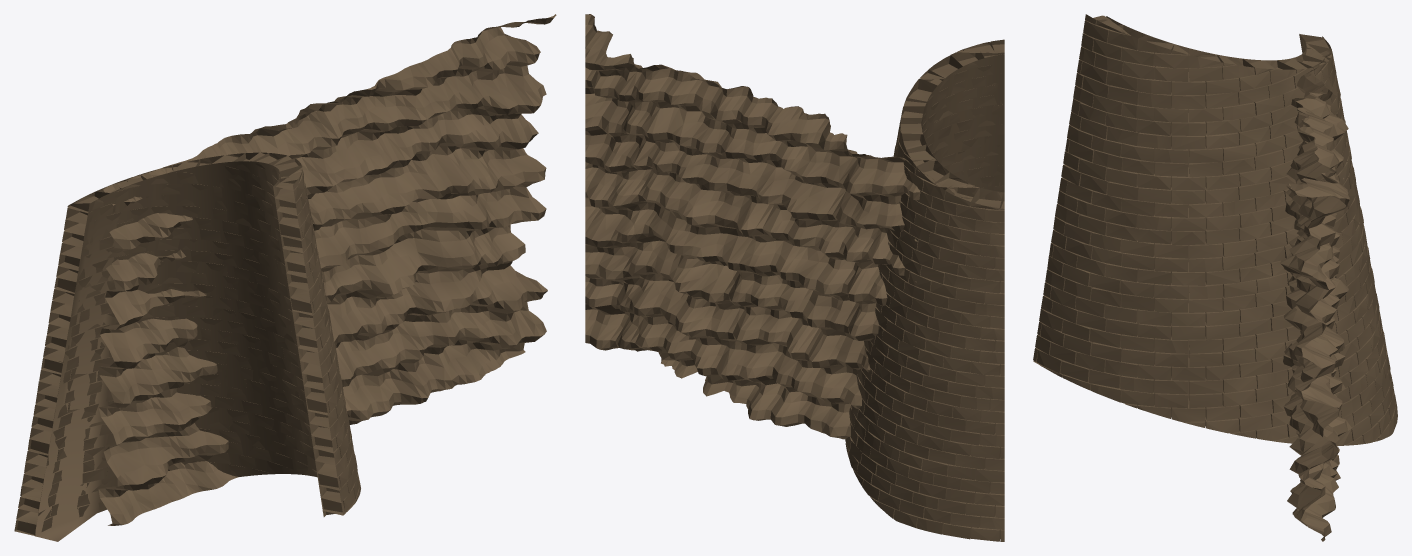
The model's file is temple03_lod1.glb.
The picture shows the model from 3 angles, left to right: view 1: azimuth 30°, elevation 25°; view 2: azimuth 150°, elevation 25°; view 3: azimuth 270°, elevation 25°; orthographic projection. The views are drawn at different scales.
Parts seen in each view (by area): view 1: TEMPLE03_original_v5.001; view 2: TEMPLE03_original_v5.001; view 3: TEMPLE03_original_v5.001.
Part boxes in pixels (left/top/right/bottom): TEMPLE03_original_v5.001: left=14, top=14, right=556, bottom=541; TEMPLE03_original_v5.001: left=585, top=14, right=1004, bottom=541; TEMPLE03_original_v5.001: left=1033, top=14, right=1397, bottom=541.
Size of the model in its own units: 5.94 by 4.83 by 3.57.
